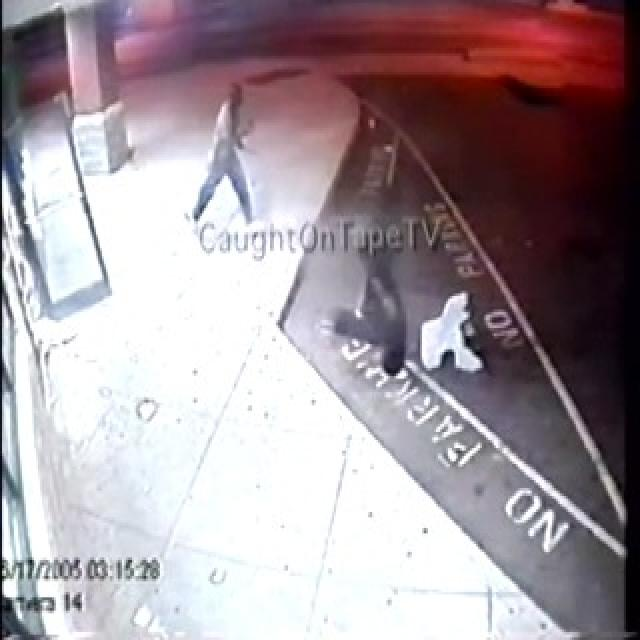thief: (355, 210, 420, 306), (220, 68, 248, 144)
